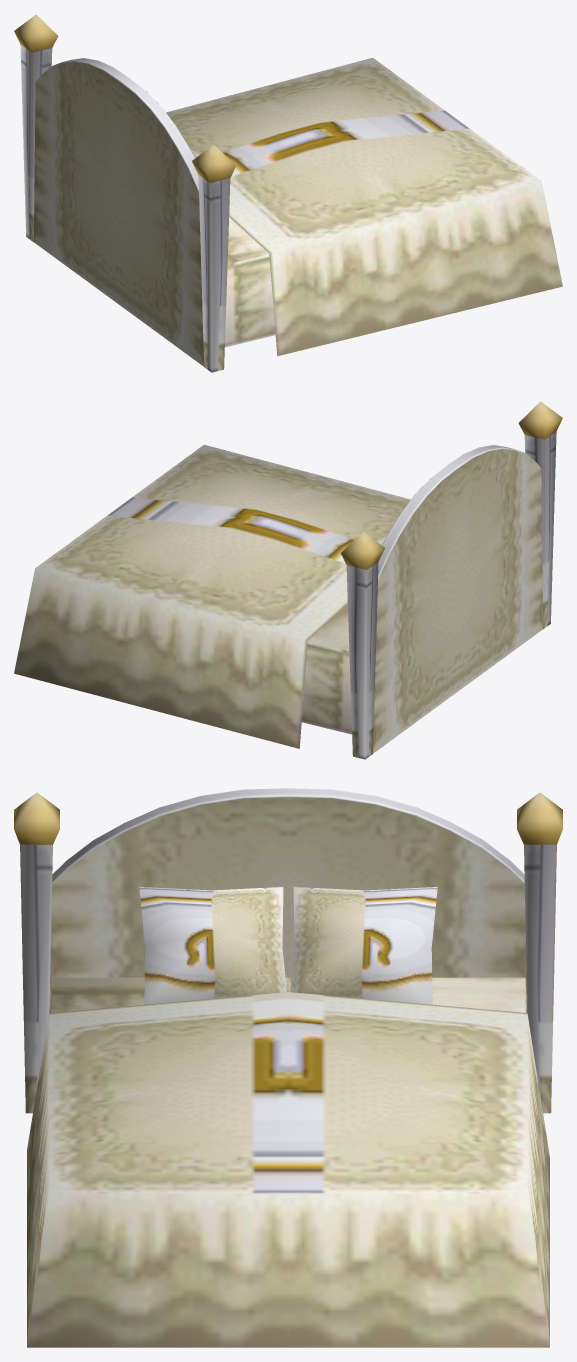
File: rmk_ryl_bedW.dae
3 views of the same model, one above another, from view 1: azimuth 30°, elevation 25°; view 2: azimuth 150°, elevation 25°; view 3: azimuth 270°, elevation 25° (orthographic). The views are drawn at different scales.
Parts seen in each view (by area): view 1: rmk_ryl_bedW; view 2: rmk_ryl_bedW; view 3: rmk_ryl_bedW.
Part boxes in pixels (<box>): rmk_ryl_bedW: <box>14,14,562,372</box>; rmk_ryl_bedW: <box>14,401,562,759</box>; rmk_ryl_bedW: <box>14,788,562,1347</box>.
Size of the model in its own units: 58.65 by 35.86 by 54.8.
1 material, 1 textured.
